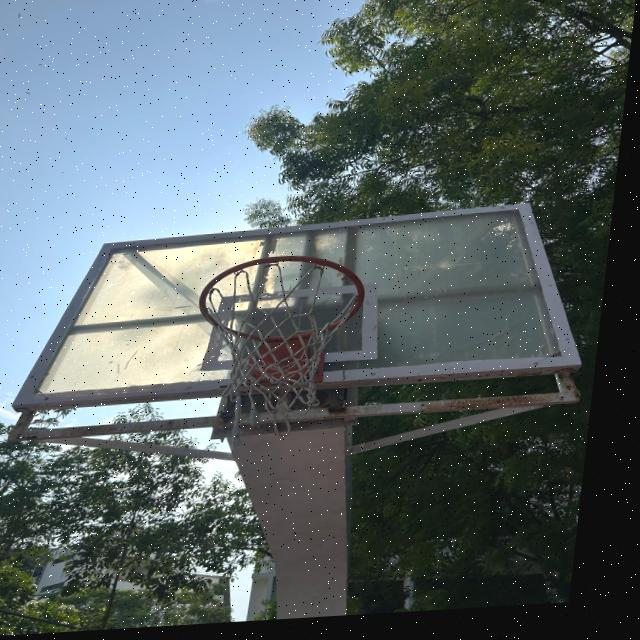hoop: (160, 251, 389, 445)
